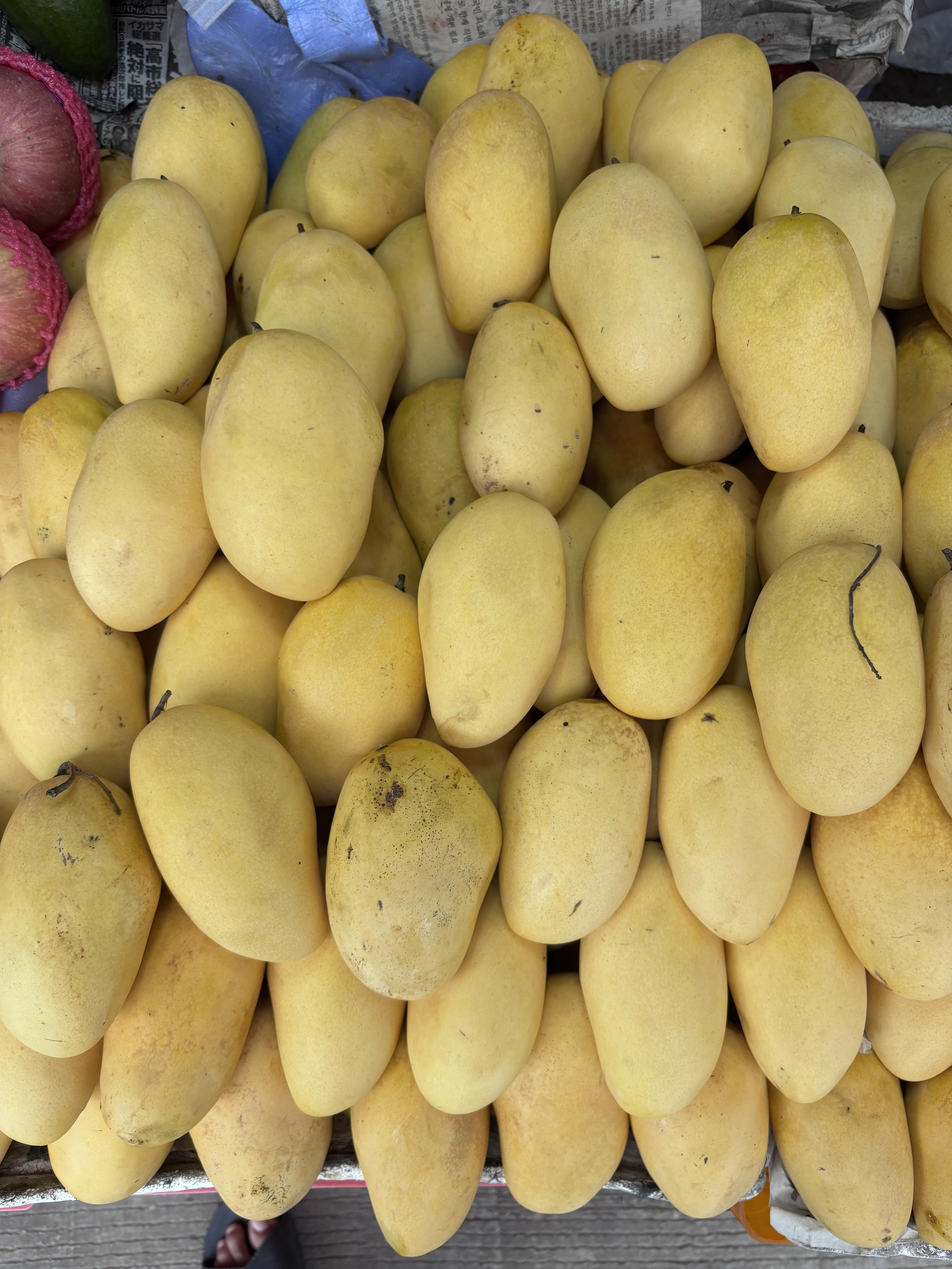mango: (130, 704, 329, 962), (201, 329, 383, 601), (746, 543, 925, 816), (326, 738, 501, 1001), (713, 212, 871, 472), (583, 468, 746, 719), (550, 163, 714, 412), (418, 492, 566, 749), (499, 700, 652, 944)
occluded: (0, 762, 161, 1058), (100, 889, 264, 1146), (580, 841, 727, 1118), (658, 685, 809, 944), (726, 846, 866, 1103), (811, 750, 952, 1001), (66, 399, 217, 631), (276, 576, 426, 806), (0, 558, 147, 788), (407, 876, 546, 1114), (493, 973, 629, 1213), (425, 90, 556, 333), (86, 178, 226, 404), (351, 1027, 489, 1256), (191, 999, 332, 1220), (628, 34, 772, 244), (769, 1053, 913, 1248), (459, 303, 592, 514), (256, 229, 406, 415), (149, 555, 301, 735), (132, 75, 267, 273), (631, 1026, 769, 1218), (754, 136, 896, 317), (268, 934, 405, 1117), (478, 13, 602, 210), (756, 431, 902, 583), (305, 97, 437, 249), (373, 214, 475, 404), (535, 484, 610, 712), (387, 378, 479, 561), (19, 387, 112, 559), (48, 1085, 171, 1204), (0, 1022, 103, 1146), (882, 146, 952, 308), (654, 343, 746, 465), (696, 461, 761, 631), (268, 96, 362, 212), (768, 71, 879, 164), (232, 208, 314, 333), (343, 470, 422, 597), (892, 318, 952, 483), (865, 971, 952, 1081), (903, 406, 952, 600), (46, 283, 120, 409), (904, 1067, 952, 1249), (922, 571, 952, 815), (602, 60, 663, 165), (851, 310, 896, 450), (419, 44, 489, 128), (0, 412, 35, 577), (920, 166, 952, 336), (885, 132, 952, 173), (704, 244, 731, 281)
